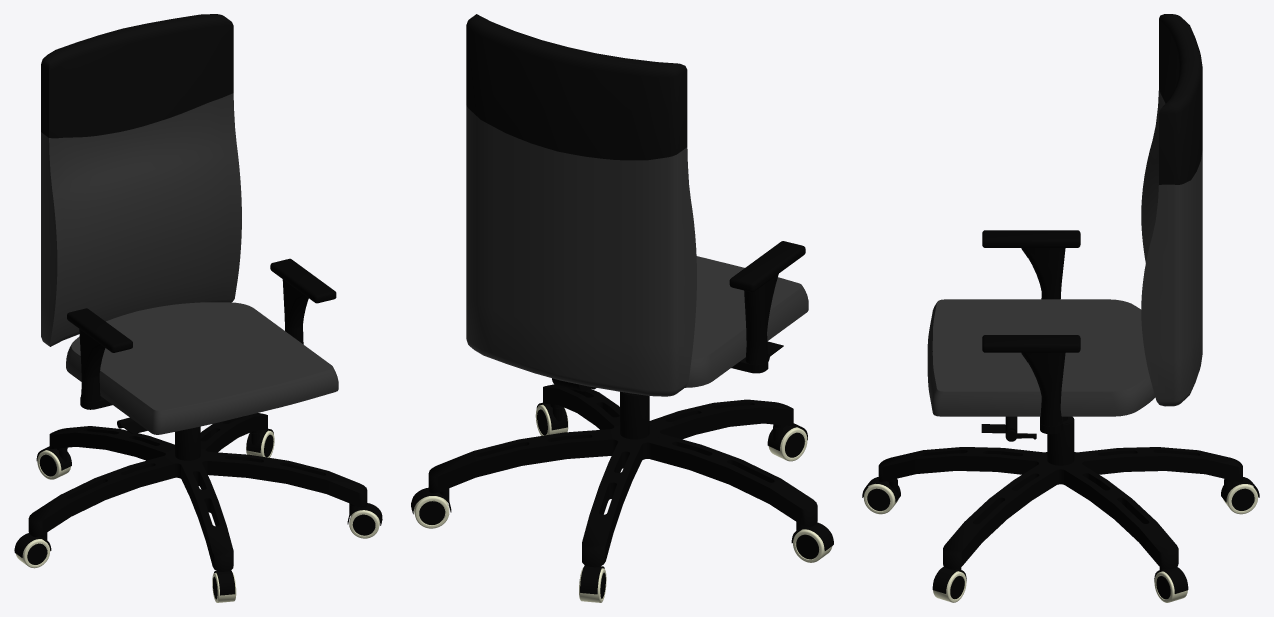
Rendered from office_chair.glb.
The picture shows the model from 3 angles, left to right: view 1: azimuth 30°, elevation 25°; view 2: azimuth 150°, elevation 25°; view 3: azimuth 270°, elevation 25°; orthographic projection. The views are drawn at different scales.
Visible parts, largest first — view 1: Plane.001, Plane.002, Cylinder.001, Cylinder.010, Cylinder, Cylinder.003, Cylinder.005, Cylinder.006, Cylinder.002, Cylinder.004; view 2: Plane.001, Cylinder.001, Plane.002, Cylinder.010, Cylinder.006, Cylinder, Cylinder.004, Cylinder.002, Cylinder.005, Cylinder.003; view 3: Plane.002, Plane.001, Cylinder.001, Cylinder.010, Cylinder.006, Cylinder.002, Cylinder.005, Cylinder.004, Cylinder.003, Cylinder.007.
Part boxes in pixels (x1,y1,x2,y2): Plane.001: [41, 14, 241, 346]; Plane.002: [66, 302, 338, 434]; Cylinder.001: [28, 413, 367, 571]; Cylinder.010: [67, 258, 336, 409]; Cylinder: [14, 532, 51, 568]; Cylinder.003: [347, 503, 382, 538]; Cylinder.005: [36, 446, 71, 479]; Cylinder.006: [175, 426, 200, 460]; Cylinder.002: [212, 570, 236, 602]; Cylinder.004: [246, 428, 274, 457]; Plane.001: [466, 14, 696, 396]; Cylinder.001: [428, 384, 817, 567]; Plane.002: [685, 256, 808, 387]; Cylinder.010: [729, 241, 805, 373]; Cylinder.006: [620, 391, 649, 439]; Cylinder: [791, 522, 833, 562]; Cylinder.004: [411, 487, 451, 528]; Cylinder.002: [767, 423, 807, 461]; Cylinder.005: [579, 565, 606, 602]; Cylinder.003: [535, 402, 568, 435]; Plane.002: [927, 299, 1155, 416]; Plane.001: [1141, 14, 1202, 406]; Cylinder.001: [878, 447, 1242, 569]; Cylinder.010: [982, 230, 1080, 434]; Cylinder.006: [1047, 416, 1074, 465]; Cylinder.002: [862, 477, 900, 514]; Cylinder.005: [1221, 477, 1259, 514]; Cylinder.004: [1154, 567, 1188, 602]; Cylinder.003: [932, 567, 966, 602]; Cylinder.007: [981, 416, 1036, 441].
Size of the model in its own units: 1.87 by 2.6 by 1.96.
